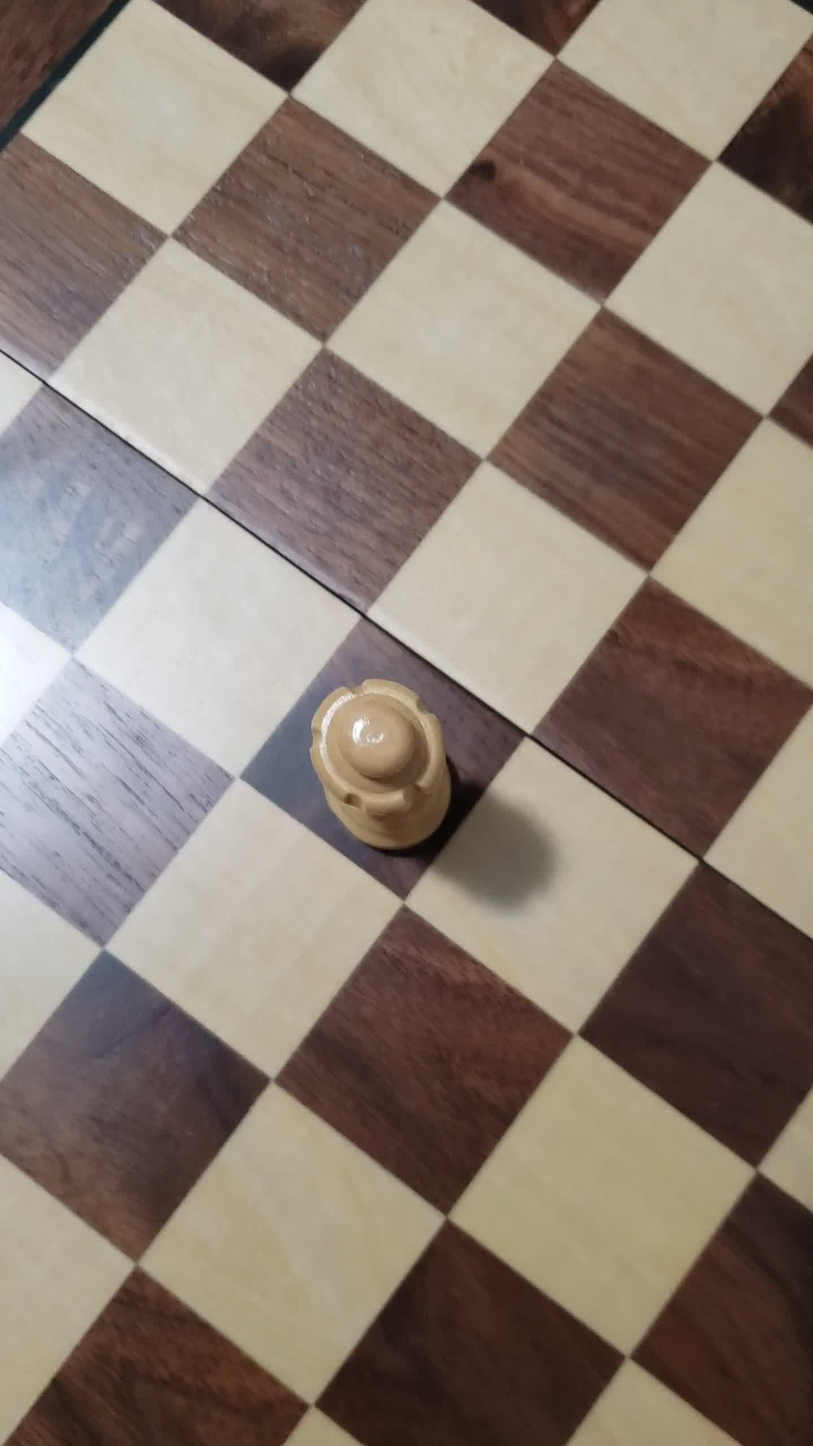white-queen: (268, 667, 487, 881)
